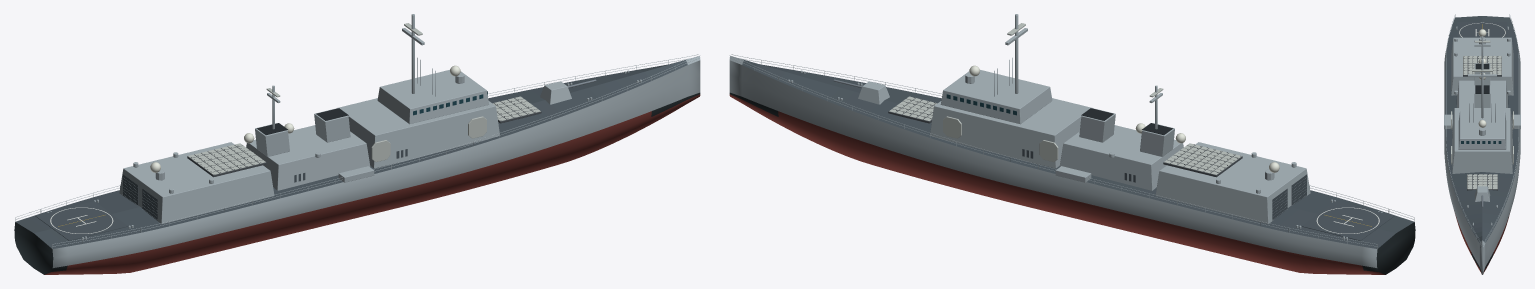
Rendered from usn_ddg_burke_iii.glb.
3 views of the same model, side by side, from view 1: azimuth 30°, elevation 25°; view 2: azimuth 150°, elevation 25°; view 3: azimuth 270°, elevation 25° (orthographic). The views are drawn at different scales.
Visible parts, largest first — view 1: usn_ddg_burke_iii; view 2: usn_ddg_burke_iii; view 3: usn_ddg_burke_iii.
Boxes of the visible parts, x1,y1,x2,y2 form: usn_ddg_burke_iii: (14, 14, 700, 274); usn_ddg_burke_iii: (729, 14, 1415, 274); usn_ddg_burke_iii: (1444, 14, 1520, 274).
Bounding box in the file's own units: 10 × 2.56 × 1.35.
